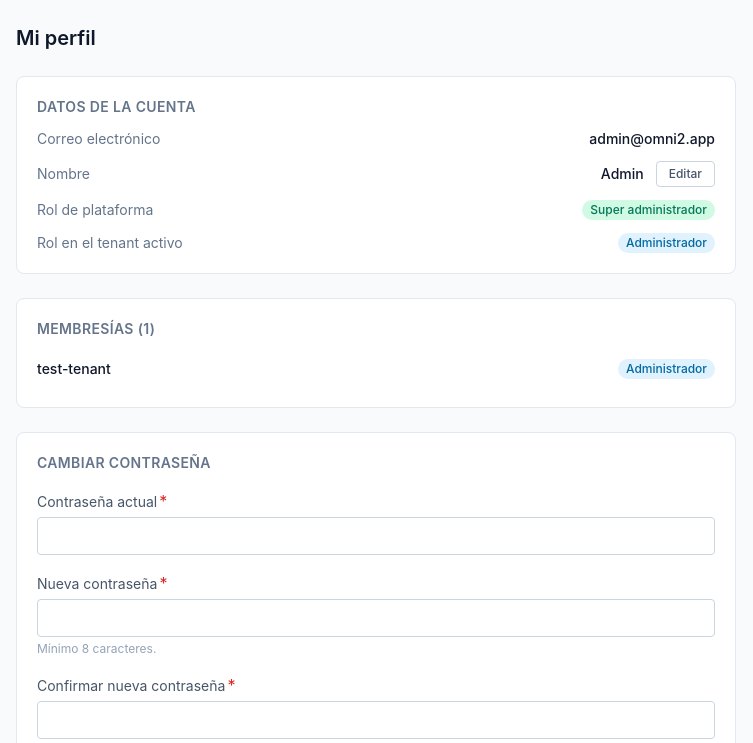
ProfileSection › valida la contraseña actual obligatoria antes de cambiar
Type "nueva1234" into the password field labelled "Nueva contraseña" at x=376, y=618, box [37,599,715,637]
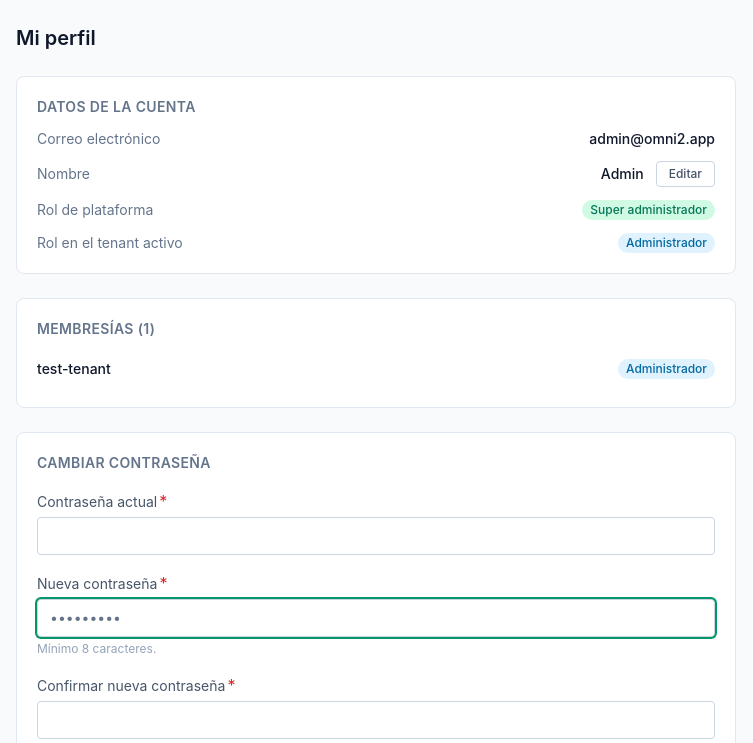
Type "nueva1234" into the password field labelled "Confirmar nueva contraseña" at x=376, y=720, box [37,701,715,739]
(page scrolled)
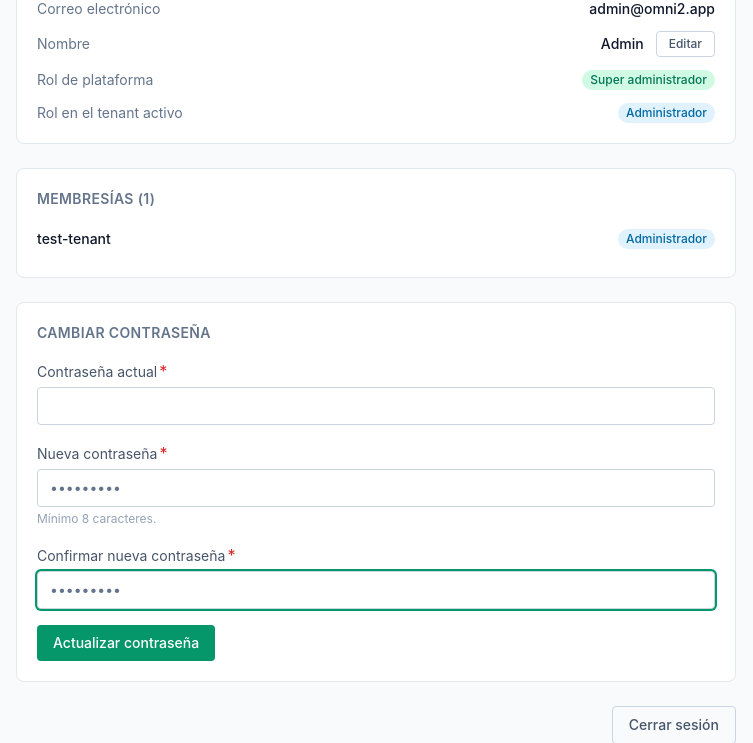
Click the button "Actualizar contraseña" at x=126, y=643, box [37,625,215,661]
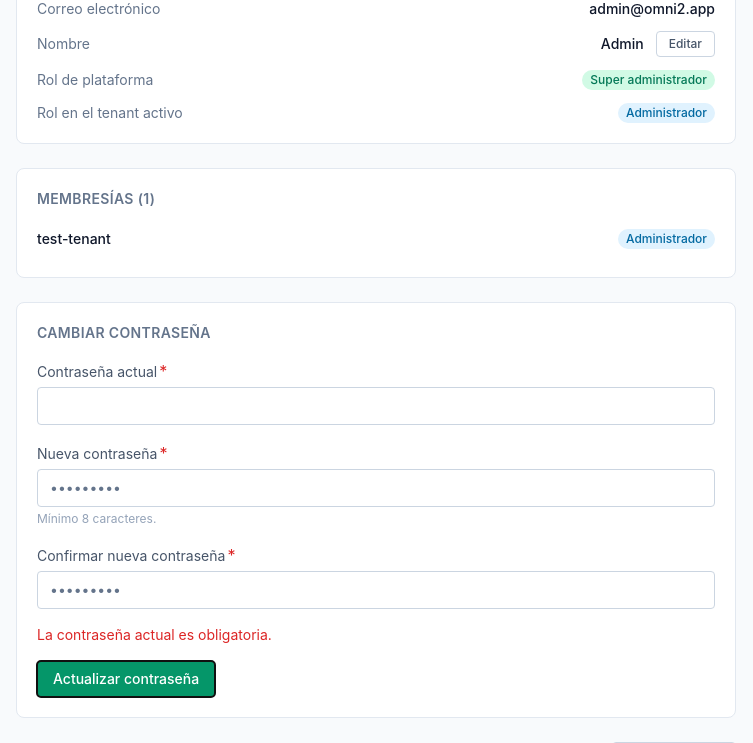
Expected: the message reads "La contraseña actual es obligatoria.", [37,626,272,643]
